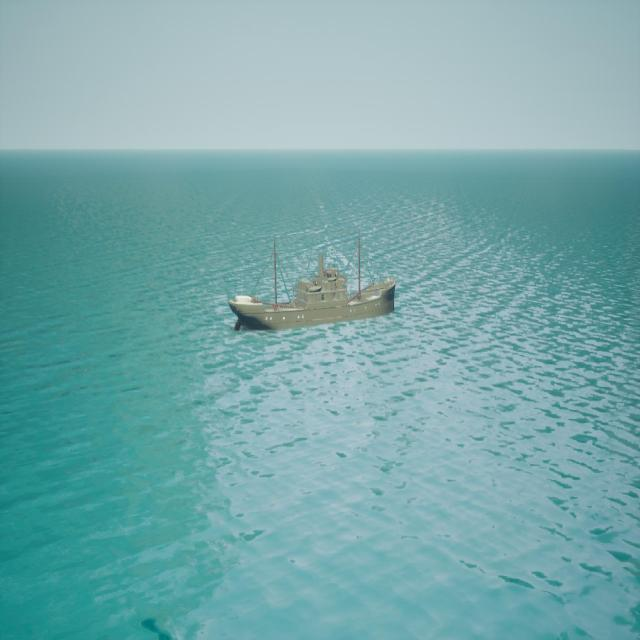fishing ship: (230, 238, 397, 332)
